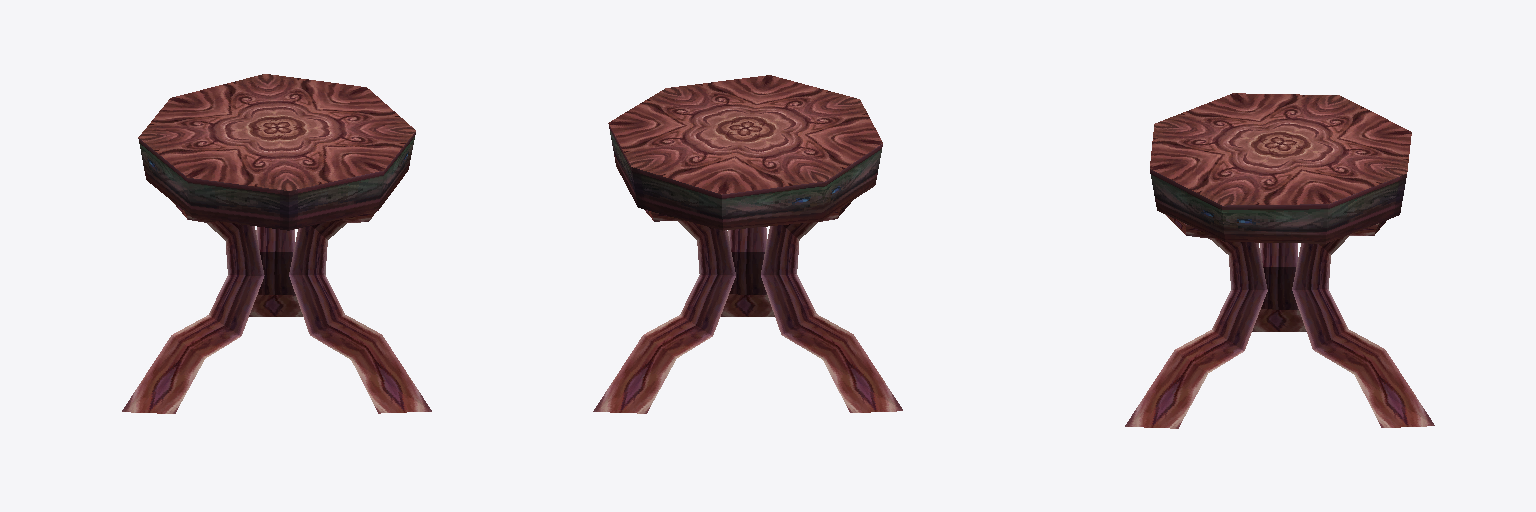
The picture shows the model from 3 angles: view 1: azimuth 30°, elevation 25°; view 2: azimuth 150°, elevation 25°; view 3: azimuth 270°, elevation 25°; orthographic projection.
Visible parts, largest first — view 1: elvenwoodentable01; view 2: elvenwoodentable01; view 3: elvenwoodentable01.
Part boxes in pixels (left/top/right/bottom): elvenwoodentable01: left=122, top=74, right=431, bottom=413; elvenwoodentable01: left=593, top=75, right=902, bottom=413; elvenwoodentable01: left=1125, top=93, right=1434, bottom=428.
Bounding box in the file's own units: 2.12 × 1.85 × 2.11.
1 materials, 1 textured.